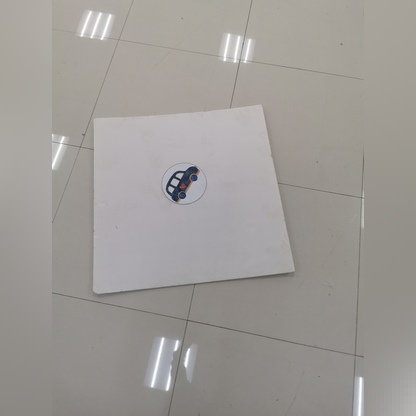car: (155, 156, 208, 199)
